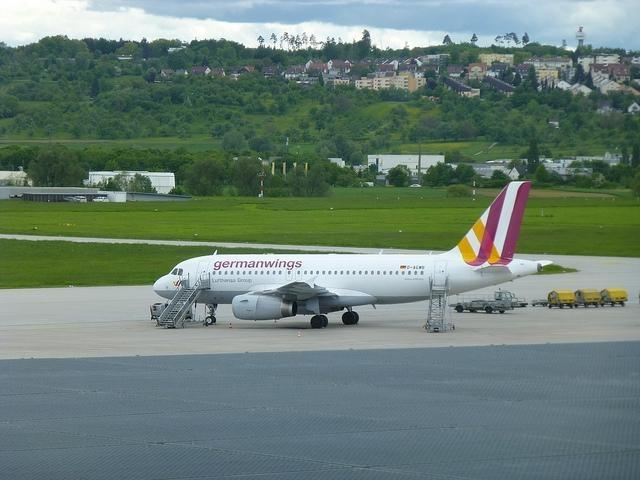truck: (448, 290, 514, 314)
